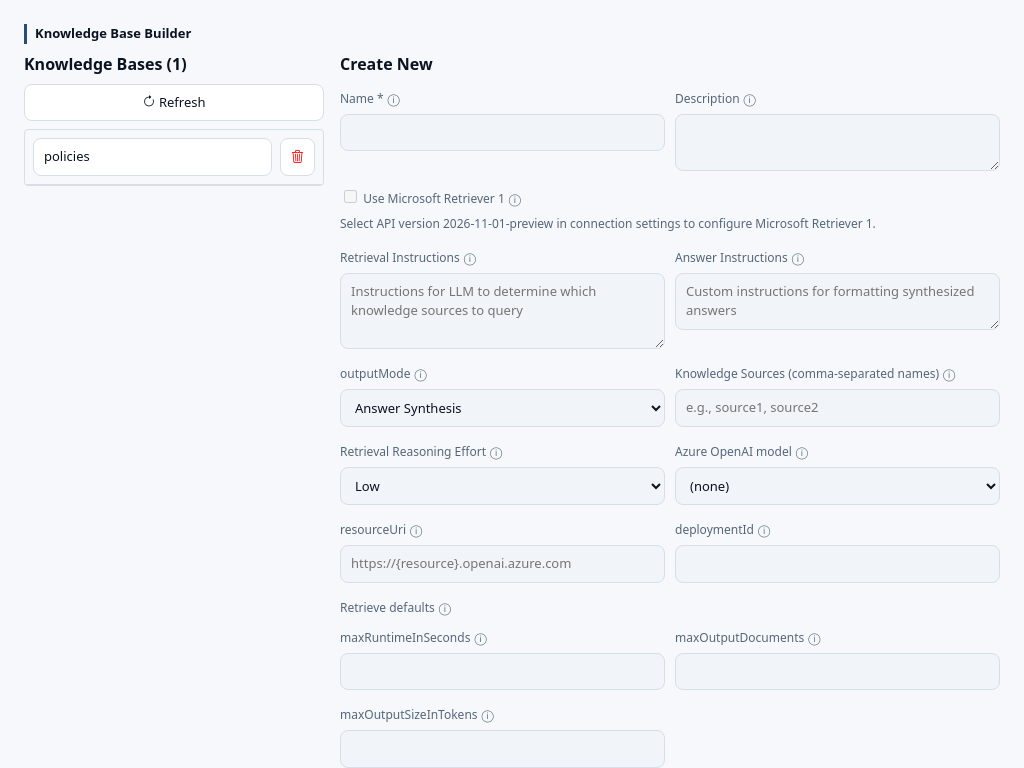
Knowledge Base Builder Microsoft Retriever 1 › disables Retriever 1 and prevents a stale Retriever 1 configuration from being saved with the August API
Check: the checkbox labelled "Use Microsoft Retriever 1" is disabled, box 344,190 -> 357,202
Click the button "policies" at [152, 157], box 33,138 -> 272,176
(page scrolled)
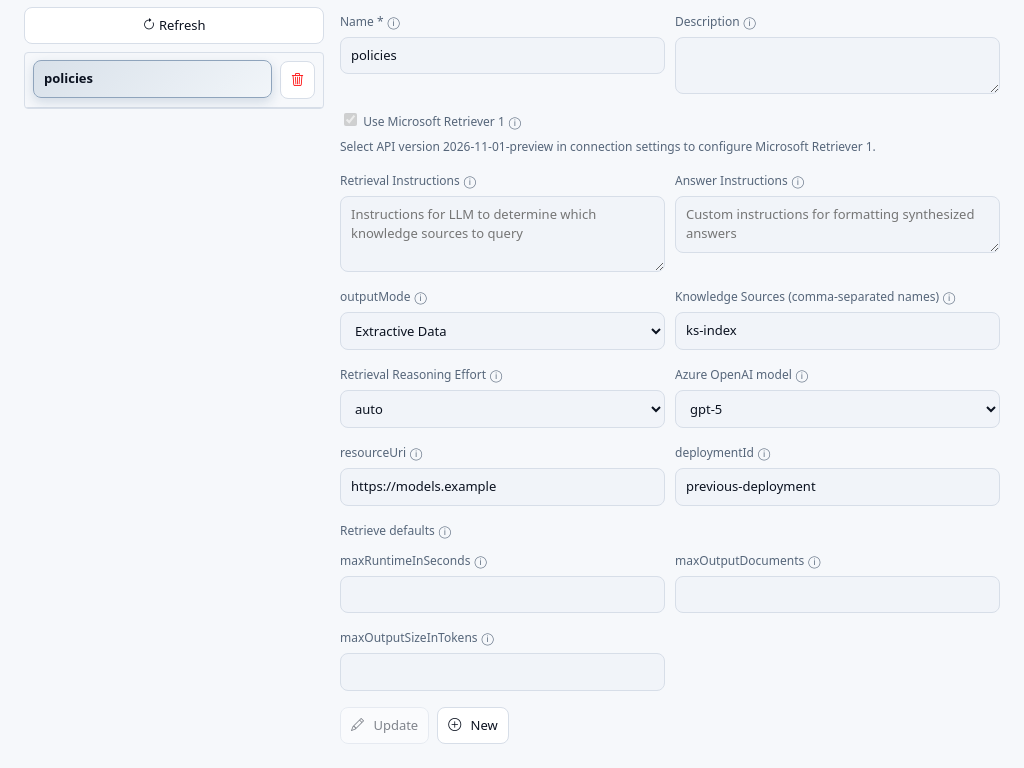
Check: the checkbox labelled "Use Microsoft Retriever 1" is checked, box 344,112 -> 357,126
Check: the button "Update" is disabled, box 340,707 -> 429,744
